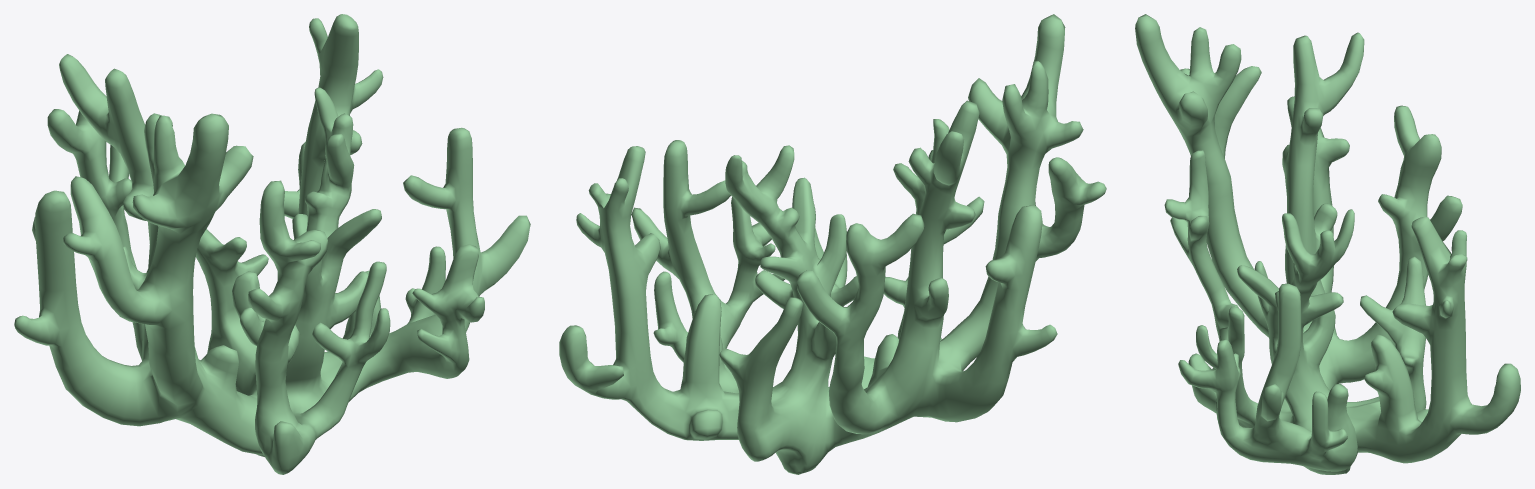
Rendered from SM_ocean_coralFinger_02.fbx.
The picture shows the model from 3 angles, left to right: view 1: azimuth 30°, elevation 25°; view 2: azimuth 150°, elevation 25°; view 3: azimuth 270°, elevation 25°; orthographic projection. The views are drawn at different scales.
Visible parts, largest first — view 1: SM_ocean_coralFinger_02_LOD0; view 2: SM_ocean_coralFinger_02_LOD0; view 3: SM_ocean_coralFinger_02_LOD0.
Boxes of the visible parts, left/top/right/bottom form: SM_ocean_coralFinger_02_LOD0: left=14, top=14, right=530, bottom=474; SM_ocean_coralFinger_02_LOD0: left=559, top=14, right=1106, bottom=474; SM_ocean_coralFinger_02_LOD0: left=1135, top=14, right=1520, bottom=474.
Size of what is drawn, in the model's own units: 102 by 81.8 by 90.37.
